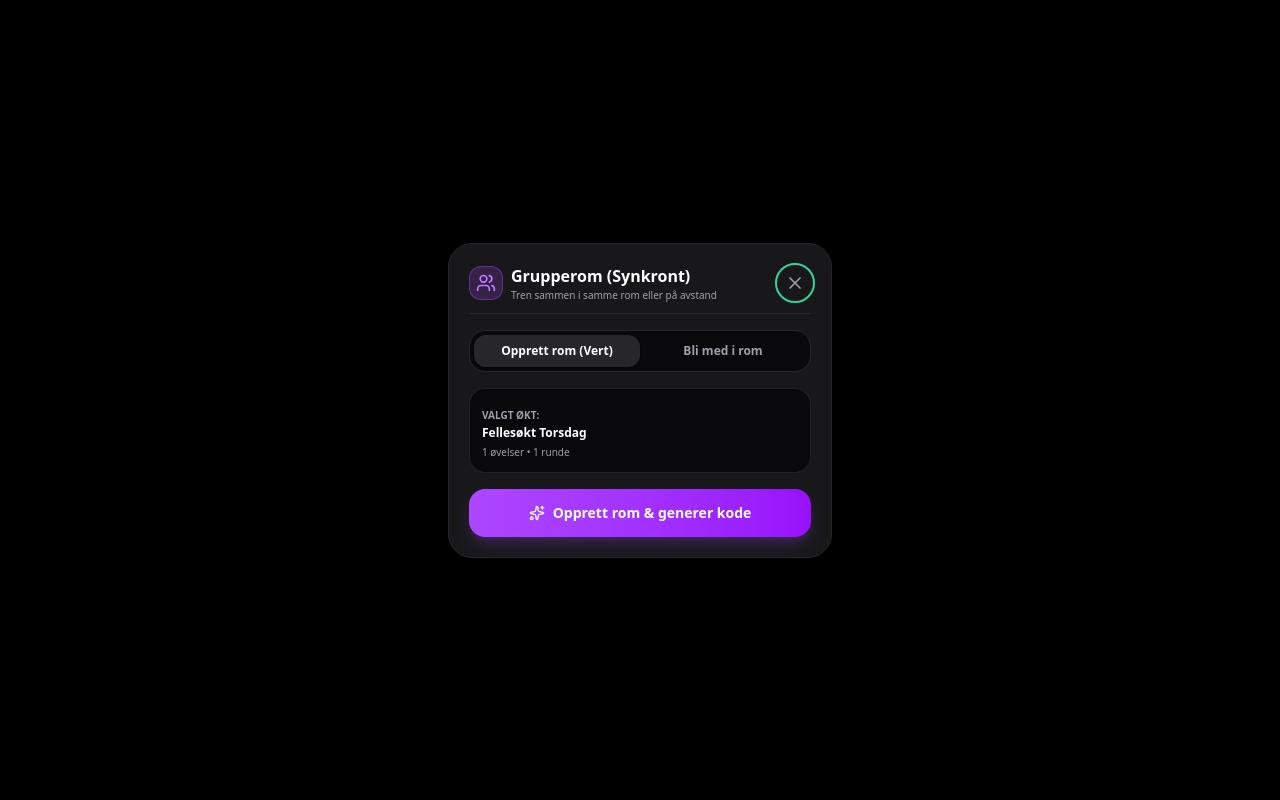
Scenario: GroupRoomModal – join-flyt (deltaker) › viser feilmelding når romkoden ikke finnes
Click the button "Bli med i rom" at (723, 350), box x1=640 y1=334 x2=806 y2=366
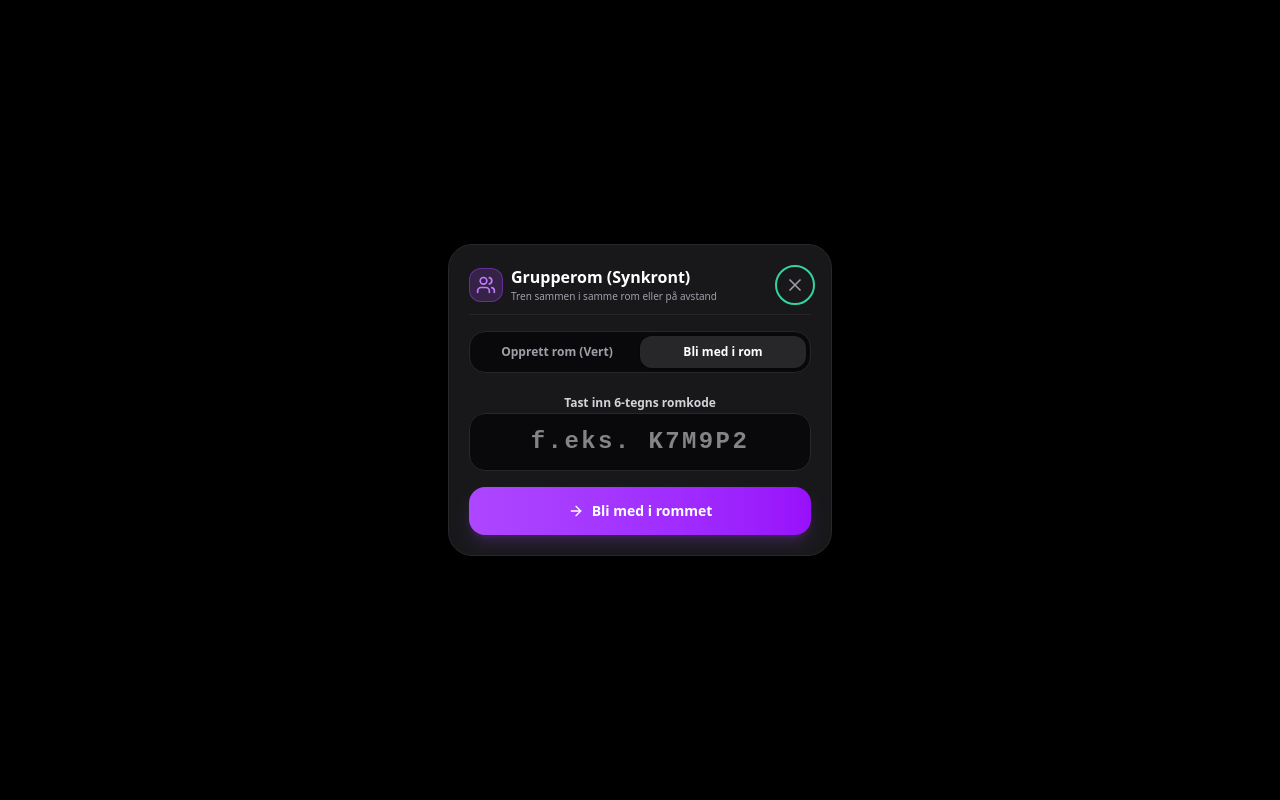
Type "XXXXXX" into the field labelled "Tast inn 6-tegns romkode" at (640, 442), box x1=469 y1=413 x2=811 y2=471
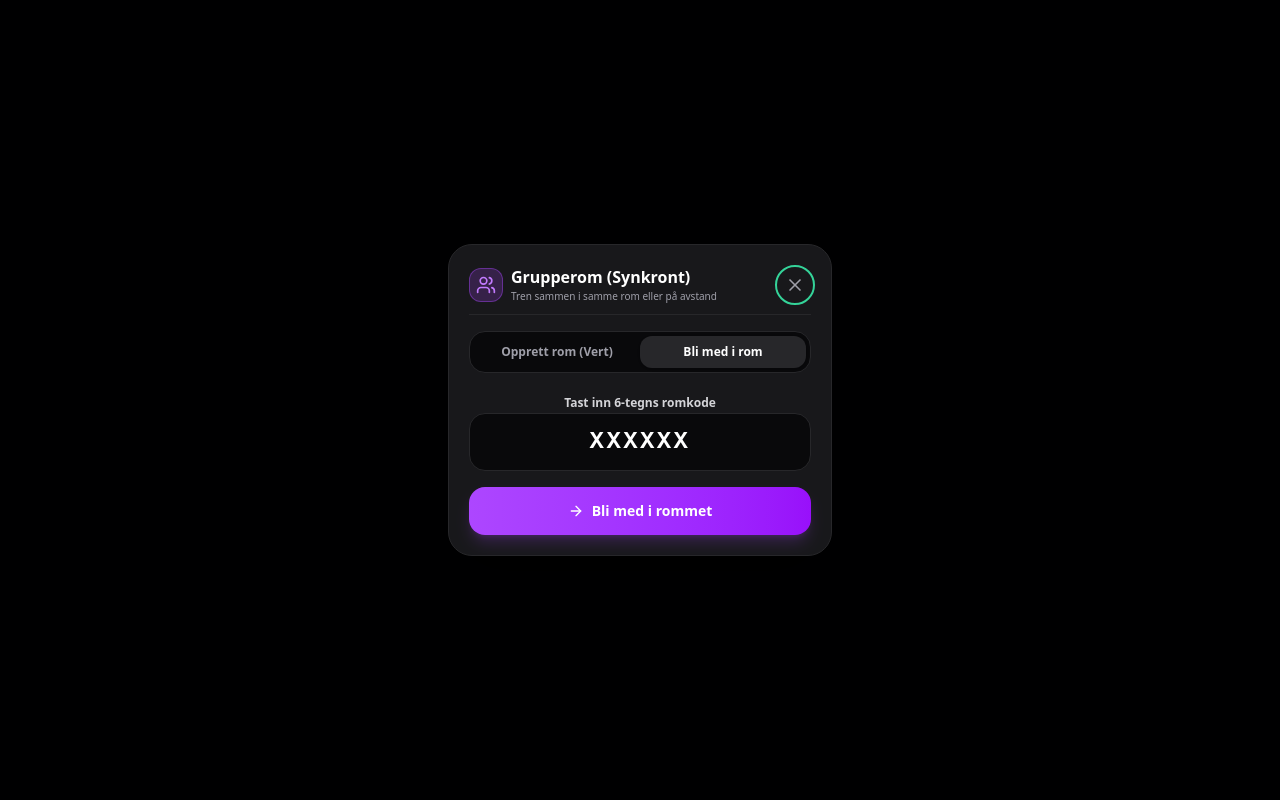
Click the button "Bli med i rommet" at (640, 511), box x1=469 y1=487 x2=811 y2=535
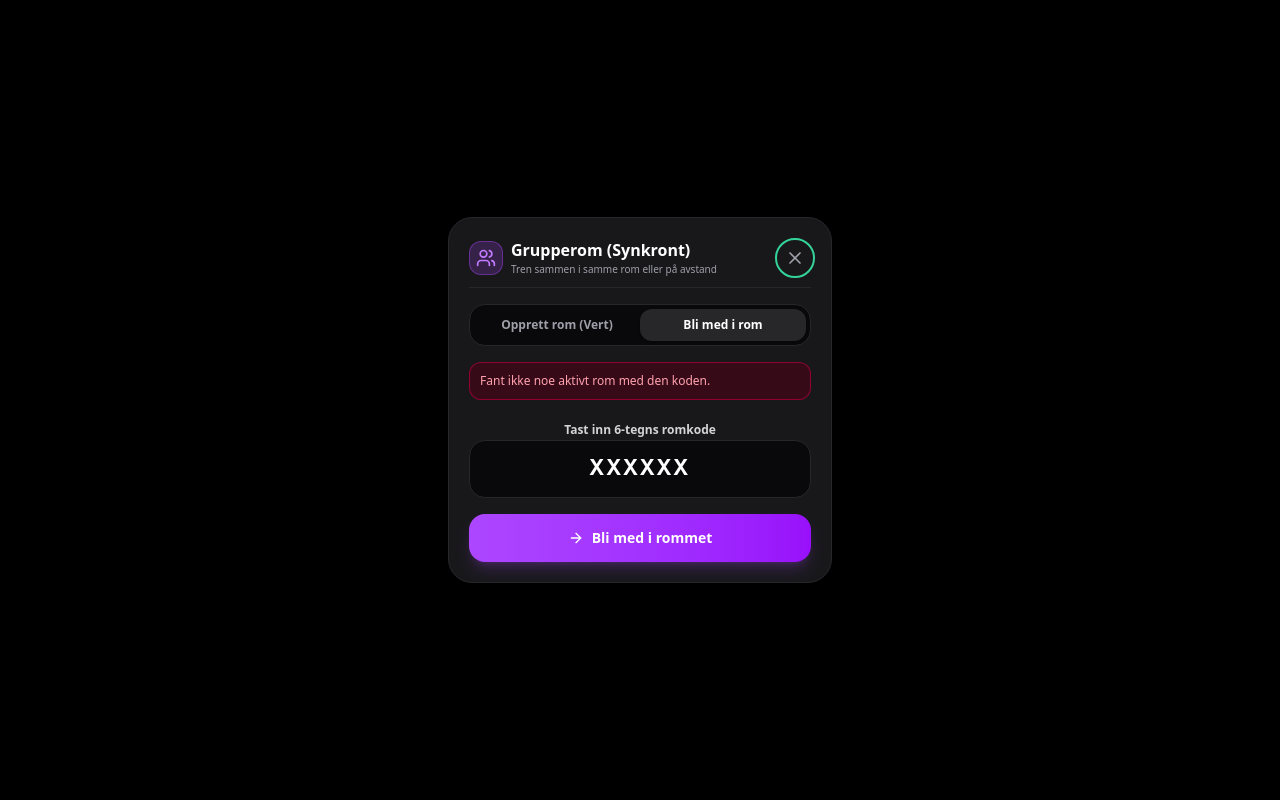
Result: the text "Fant ikke noe aktivt rom med den koden." is shown at x1=469 y1=362 x2=811 y2=400
